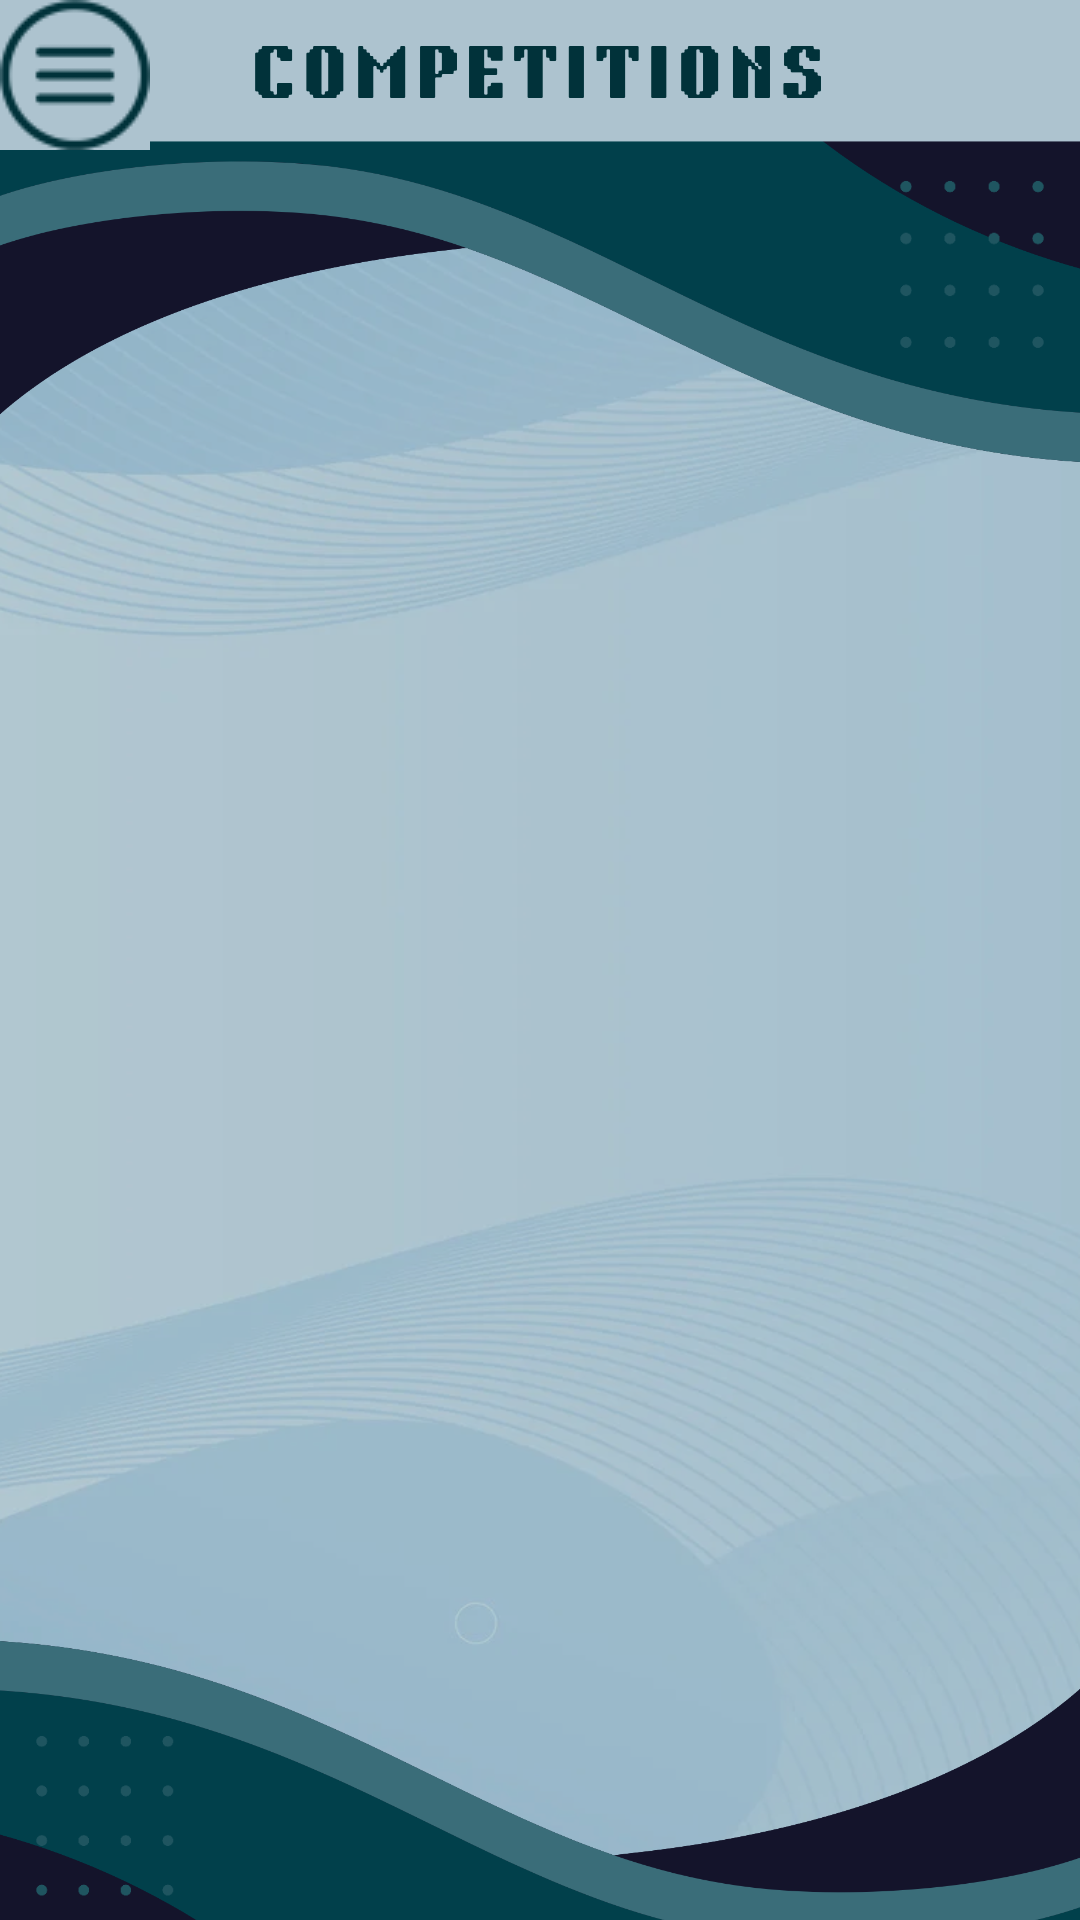

Point at icon controls on the screen. Image size 1080px×1920px, points as point (x, y).
hamburger: point (75, 75)
